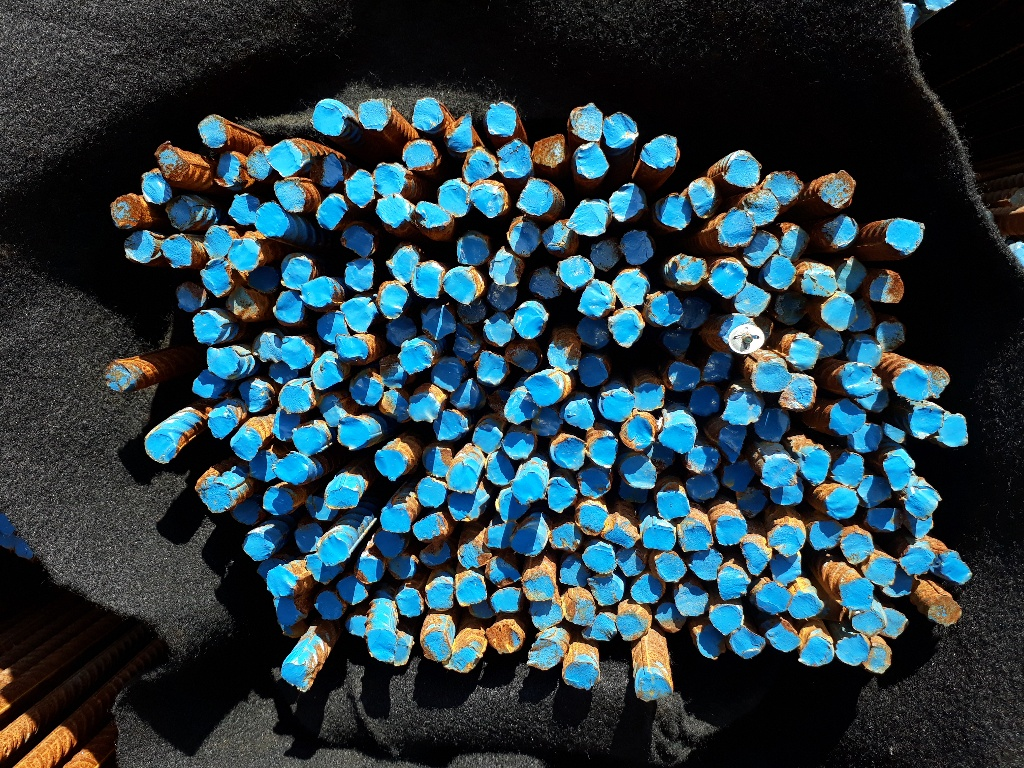dipstick: (721, 314, 765, 355), (716, 206, 755, 248), (226, 286, 269, 323), (885, 218, 925, 257), (524, 368, 564, 407), (567, 198, 608, 236), (708, 261, 748, 299), (516, 177, 554, 216), (797, 445, 832, 487), (655, 193, 693, 231), (641, 133, 680, 170), (892, 362, 931, 399), (761, 453, 800, 490), (613, 269, 650, 308), (721, 392, 763, 426), (818, 172, 856, 209), (266, 140, 304, 177), (602, 512, 641, 548), (550, 432, 586, 471), (497, 139, 533, 178), (609, 182, 644, 222), (547, 333, 582, 373), (469, 183, 509, 218), (741, 231, 778, 268), (743, 188, 780, 225), (603, 111, 639, 149), (724, 151, 762, 187), (199, 259, 234, 298), (386, 244, 419, 285), (909, 404, 945, 441), (729, 624, 765, 661), (577, 281, 613, 318), (442, 267, 477, 305), (903, 487, 942, 521), (763, 171, 803, 204), (937, 550, 973, 586), (829, 399, 865, 435), (618, 229, 654, 265), (762, 254, 797, 291), (765, 618, 802, 653), (650, 290, 684, 328), (156, 143, 189, 182), (510, 308, 550, 340), (822, 296, 857, 332), (504, 389, 539, 425), (254, 203, 289, 239), (734, 283, 771, 317), (786, 338, 823, 372), (620, 455, 657, 489), (571, 102, 604, 140), (315, 193, 348, 231), (668, 254, 707, 286), (345, 168, 375, 209), (869, 269, 904, 304), (508, 222, 543, 257), (511, 470, 546, 505), (832, 451, 866, 487), (778, 377, 814, 411), (561, 588, 595, 624), (768, 524, 805, 557), (672, 584, 709, 617), (576, 142, 609, 179), (587, 573, 625, 605), (717, 425, 748, 464), (613, 311, 644, 350), (840, 531, 875, 565), (716, 566, 750, 601), (420, 306, 455, 340), (310, 153, 344, 188), (227, 238, 262, 272), (821, 215, 857, 248), (754, 359, 790, 392), (756, 582, 792, 615), (495, 489, 531, 522), (447, 110, 474, 154), (433, 409, 469, 442), (298, 274, 334, 307), (411, 261, 443, 298), (281, 253, 313, 290), (526, 639, 564, 670), (840, 577, 874, 611), (777, 227, 811, 261), (559, 256, 594, 289), (470, 185, 505, 218), (437, 183, 470, 218), (358, 99, 393, 132), (834, 634, 870, 666), (621, 416, 653, 452), (546, 477, 578, 513), (373, 163, 405, 199), (282, 334, 314, 370), (835, 257, 866, 294), (688, 176, 715, 218), (774, 291, 807, 325), (755, 408, 788, 442), (337, 417, 370, 451), (340, 299, 373, 333), (311, 104, 345, 137), (228, 192, 261, 226), (122, 230, 155, 264), (801, 266, 836, 298), (927, 595, 962, 627), (688, 549, 723, 581), (582, 542, 617, 574), (533, 133, 565, 168), (161, 234, 193, 269), (709, 604, 745, 635), (488, 245, 519, 281), (444, 640, 480, 671), (307, 554, 343, 585), (657, 424, 694, 454), (722, 458, 755, 491), (464, 149, 497, 182), (377, 196, 410, 229), (548, 520, 582, 552), (412, 98, 444, 132), (318, 394, 350, 428), (273, 178, 305, 212), (201, 224, 233, 258), (191, 311, 223, 345), (109, 195, 141, 229), (798, 636, 833, 667), (458, 539, 493, 570), (486, 623, 522, 653), (412, 511, 448, 541), (165, 195, 195, 231), (899, 547, 936, 576), (380, 284, 409, 321), (291, 427, 328, 456), (271, 458, 309, 486), (858, 475, 891, 507), (826, 487, 859, 519), (420, 629, 453, 661), (375, 449, 407, 482), (316, 534, 349, 566), (206, 345, 238, 378), (679, 522, 713, 553), (653, 551, 687, 582), (601, 390, 635, 421), (578, 468, 612, 499), (522, 570, 556, 601), (398, 345, 432, 376), (379, 389, 410, 423), (938, 412, 968, 447), (842, 365, 877, 395), (848, 423, 883, 453), (487, 556, 522, 586), (740, 541, 769, 577), (564, 661, 600, 690), (581, 612, 617, 641), (415, 200, 452, 228), (812, 327, 844, 359), (471, 421, 503, 453), (342, 226, 374, 258), (809, 520, 842, 551), (770, 552, 801, 585), (715, 515, 748, 546), (701, 352, 732, 385), (675, 298, 708, 329), (577, 317, 611, 347), (579, 354, 609, 388), (476, 351, 506, 385), (350, 376, 384, 406), (317, 313, 351, 343), (657, 490, 692, 519), (697, 625, 726, 660), (191, 370, 226, 399), (446, 461, 477, 493), (423, 447, 454, 479), (386, 316, 417, 348), (274, 291, 305, 323), (848, 338, 881, 368), (864, 556, 897, 586), (862, 642, 892, 675), (654, 602, 687, 632), (449, 377, 479, 410), (345, 259, 375, 292), (487, 102, 516, 136), (787, 593, 824, 619), (669, 360, 700, 391), (431, 362, 462, 393), (144, 433, 175, 464), (564, 398, 594, 430), (529, 268, 561, 298), (630, 574, 662, 604), (313, 361, 345, 391), (273, 595, 305, 625), (253, 331, 283, 363), (142, 173, 172, 205), (589, 435, 618, 468), (367, 629, 396, 662), (882, 457, 910, 491), (638, 675, 673, 702), (403, 143, 438, 170), (634, 381, 665, 411), (688, 388, 720, 417), (579, 503, 611, 532), (541, 219, 570, 251), (457, 236, 489, 265), (239, 381, 268, 413), (867, 508, 904, 533), (852, 610, 885, 638), (686, 446, 719, 474), (306, 493, 339, 521), (266, 567, 299, 595), (242, 534, 275, 562), (273, 408, 301, 441), (198, 115, 226, 148), (208, 407, 236, 440), (482, 521, 517, 547), (281, 662, 311, 692), (201, 483, 231, 513), (176, 283, 206, 313), (456, 576, 487, 605), (337, 576, 368, 605), (295, 522, 324, 553), (249, 451, 278, 482), (530, 601, 562, 629), (408, 395, 440, 423), (262, 488, 294, 516), (104, 362, 132, 394), (501, 432, 534, 459), (685, 473, 719, 499), (335, 334, 369, 360), (844, 303, 874, 332), (450, 493, 480, 522), (876, 319, 904, 350), (418, 477, 446, 508), (315, 590, 343, 621), (882, 608, 909, 640), (373, 532, 405, 559), (279, 385, 311, 412), (642, 524, 675, 550), (426, 582, 455, 611), (883, 569, 913, 597), (882, 414, 909, 445), (735, 490, 766, 517), (560, 555, 587, 586), (532, 408, 563, 435), (616, 548, 645, 576), (617, 612, 645, 641), (489, 281, 518, 309), (512, 527, 541, 555), (484, 318, 513, 346), (354, 557, 384, 584), (380, 507, 411, 533), (856, 387, 888, 412), (215, 155, 240, 187), (324, 487, 360, 509), (380, 360, 406, 390), (249, 265, 279, 291), (663, 327, 691, 354), (591, 241, 617, 270), (231, 499, 260, 525), (455, 298, 485, 323), (419, 543, 451, 566), (395, 589, 421, 617), (247, 149, 270, 180), (454, 335, 480, 362), (491, 588, 520, 612), (929, 364, 950, 397), (768, 486, 804, 505), (231, 435, 258, 460), (387, 557, 416, 580), (903, 517, 934, 538), (270, 362, 298, 383), (258, 558, 287, 578), (345, 614, 367, 638), (889, 449, 915, 469), (511, 349, 537, 369), (393, 638, 410, 667), (281, 623, 305, 638)
